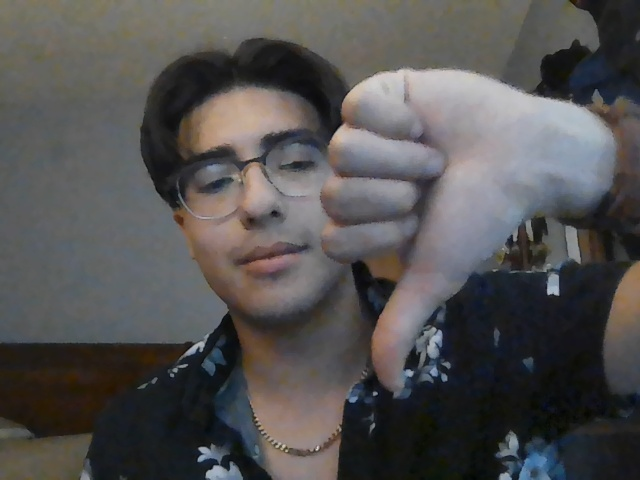ThumbsDown: (322, 65, 640, 390)
